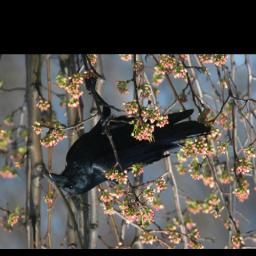Crow: (43, 79, 208, 198)
